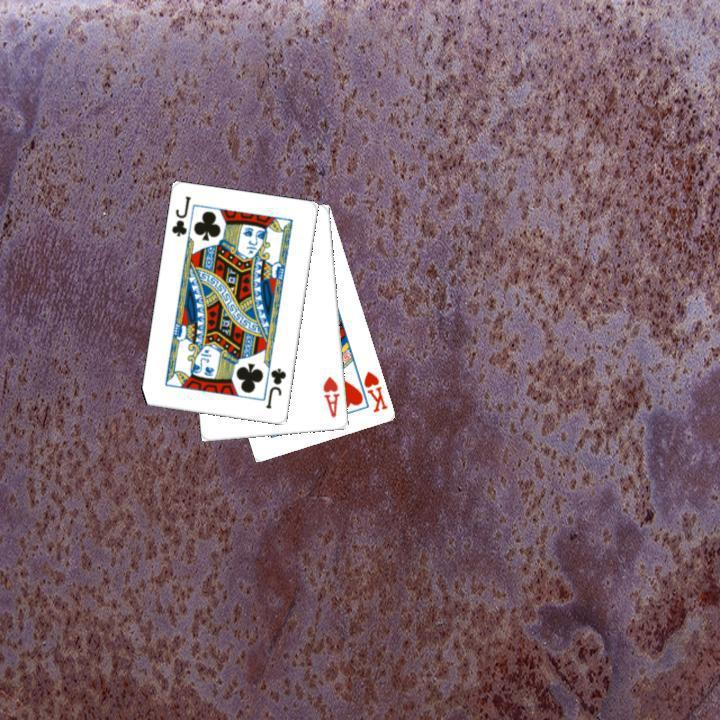A: (319, 372, 342, 420)
J: (262, 364, 289, 411), (167, 192, 193, 239)
K: (359, 367, 390, 414)
